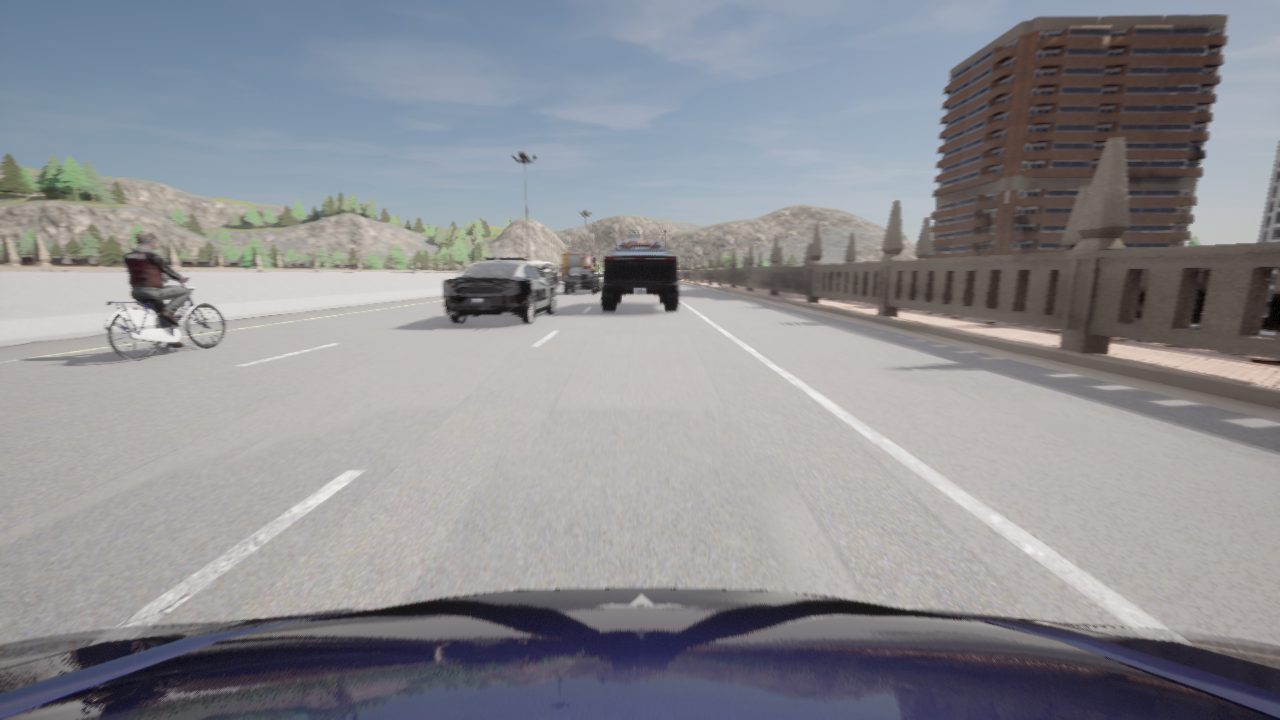cyclist: (0, 588, 1279, 719), (104, 278, 224, 359), (442, 256, 554, 324), (601, 248, 678, 311), (560, 248, 595, 280), (563, 268, 600, 293), (526, 261, 559, 289), (620, 235, 659, 247)
